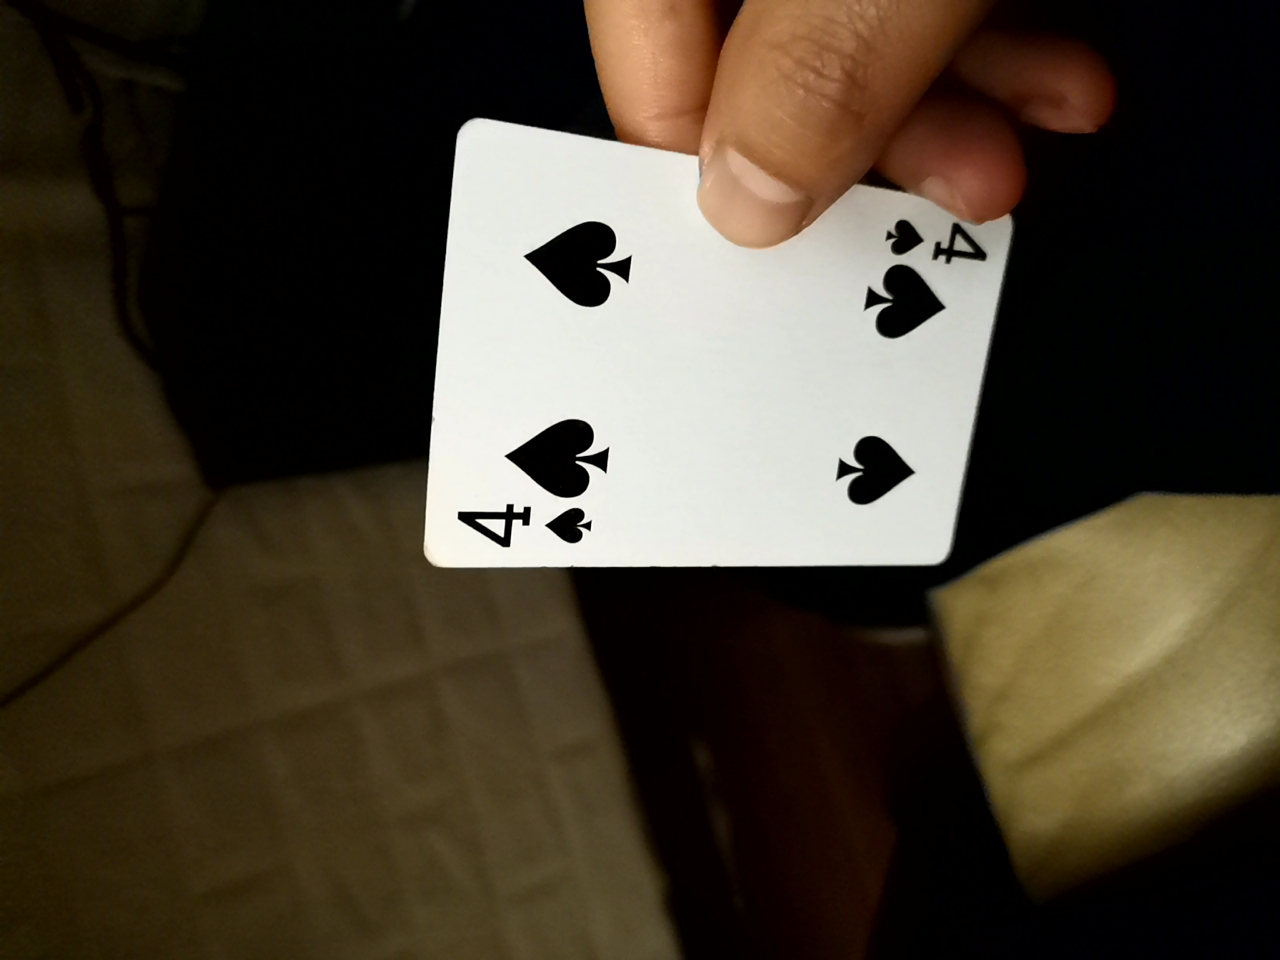ht 4: (420, 116, 1012, 580)
